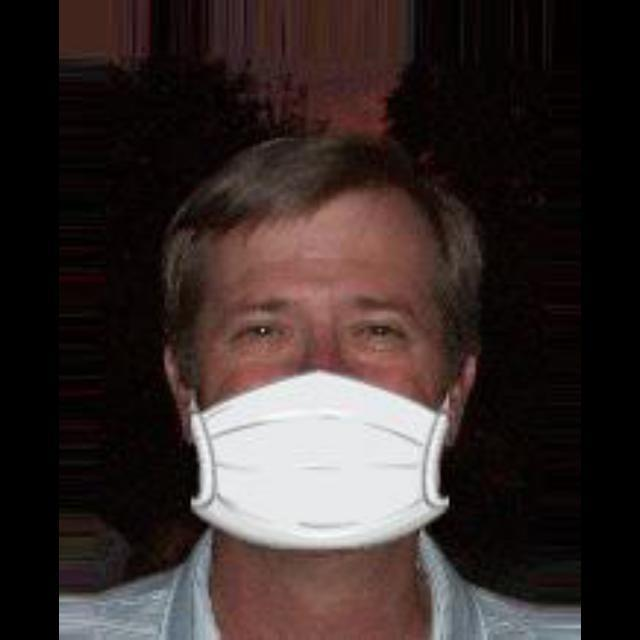suspicion: (187, 158, 501, 572)
